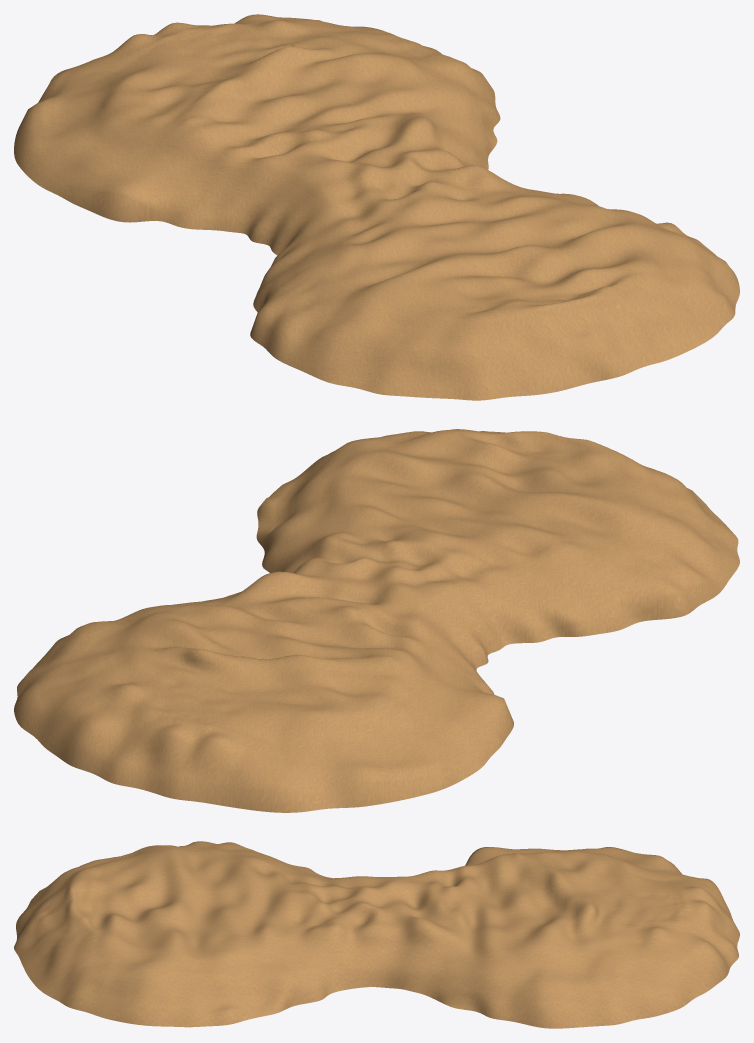
The model's file is Dessert.fbx.
The picture shows the model from 3 angles, top to bottom: view 1: azimuth 30°, elevation 25°; view 2: azimuth 150°, elevation 25°; view 3: azimuth 270°, elevation 25°; orthographic projection. The views are drawn at different scales.
Parts seen in each view (by area): view 1: Desert__1_; view 2: Desert__1_; view 3: Desert__1_.
Part boxes in pixels (box(x1,y1,x2,y2)): Desert__1_: box(14, 14, 739, 400); Desert__1_: box(14, 429, 739, 812); Desert__1_: box(14, 841, 739, 1028).
Bounding box in the file's own units: 36771 × 5233 × 64843.
